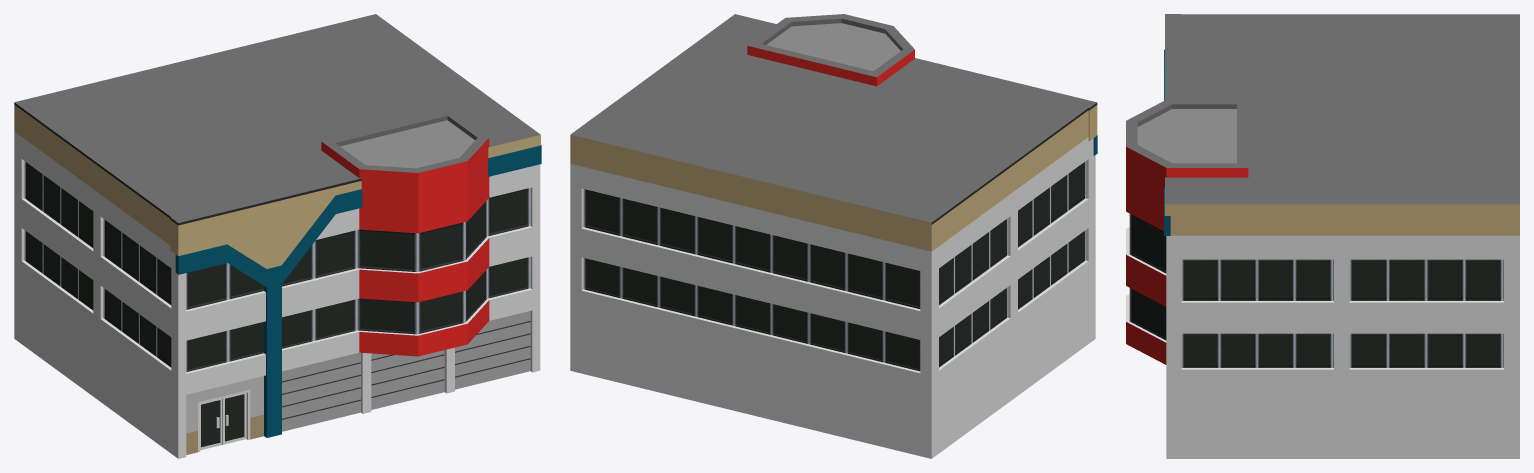
The picture shows the model from 3 angles, left to right: view 1: azimuth 30°, elevation 25°; view 2: azimuth 150°, elevation 25°; view 3: azimuth 270°, elevation 25°; orthographic projection. The views are drawn at different scales.
Parts seen in each view (by area): view 1: BB-05; view 2: BB-05; view 3: BB-05.
Part boxes in pixels (x1=…): BB-05: x1=14, y1=14, x2=541, y2=458; BB-05: x1=570, y1=14, x2=1097, y2=458; BB-05: x1=1126, y1=14, x2=1519, y2=458.
Size of what is drawn, in the model's own units: 18.32 by 11.84 by 15.98.
